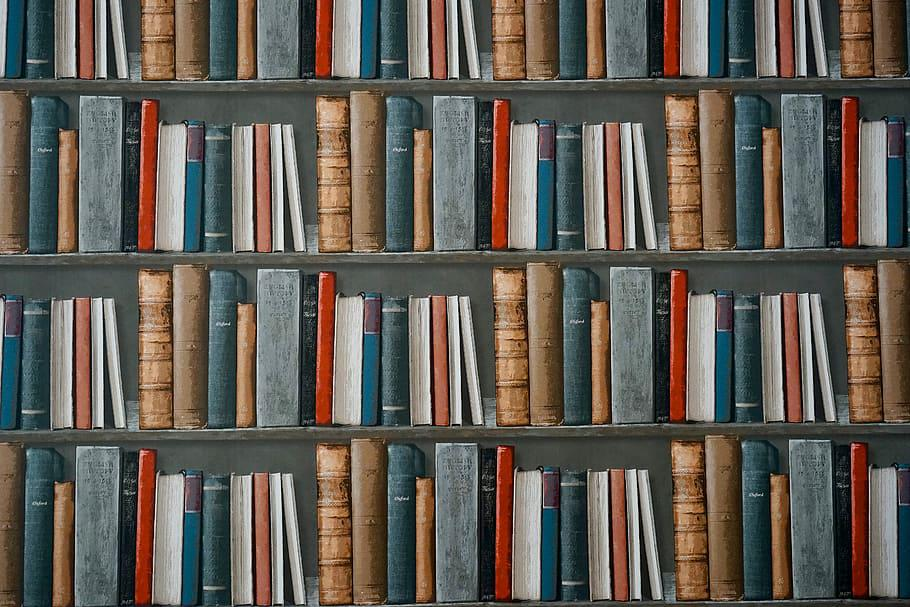book: (80, 450, 115, 607), (530, 266, 562, 425), (264, 278, 297, 428), (617, 273, 651, 417), (848, 274, 881, 421), (439, 103, 472, 247), (438, 100, 470, 248), (85, 98, 113, 246), (791, 102, 820, 244), (356, 101, 380, 249), (323, 452, 346, 606), (176, 279, 200, 423), (499, 282, 523, 425), (391, 449, 413, 604), (322, 104, 345, 251), (707, 101, 730, 245), (670, 104, 692, 248), (145, 279, 165, 425), (214, 276, 233, 425), (736, 302, 758, 416), (392, 103, 407, 248), (690, 299, 707, 419), (30, 304, 45, 433), (741, 103, 754, 247), (766, 299, 779, 419), (719, 302, 731, 420), (656, 278, 666, 416), (416, 135, 428, 247), (674, 277, 683, 419), (499, 104, 507, 247), (767, 136, 777, 247)
